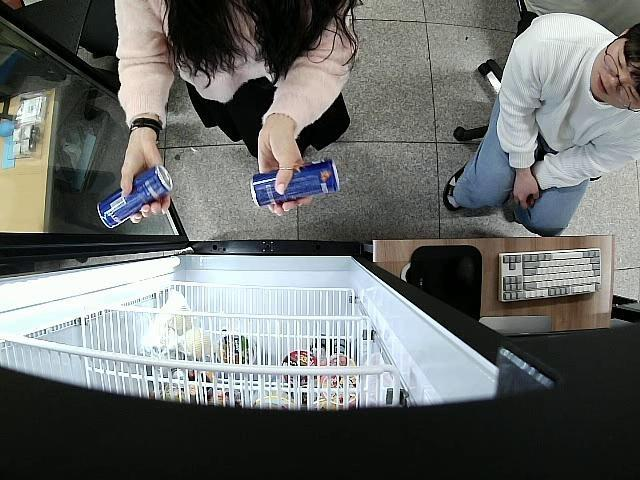16_hot6: (96, 165, 172, 229), (250, 156, 341, 207)
